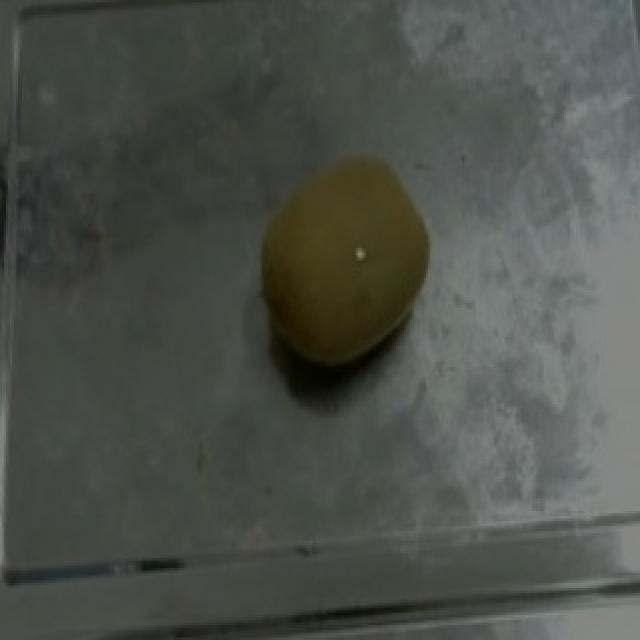Fruit: (246, 142, 446, 380)
